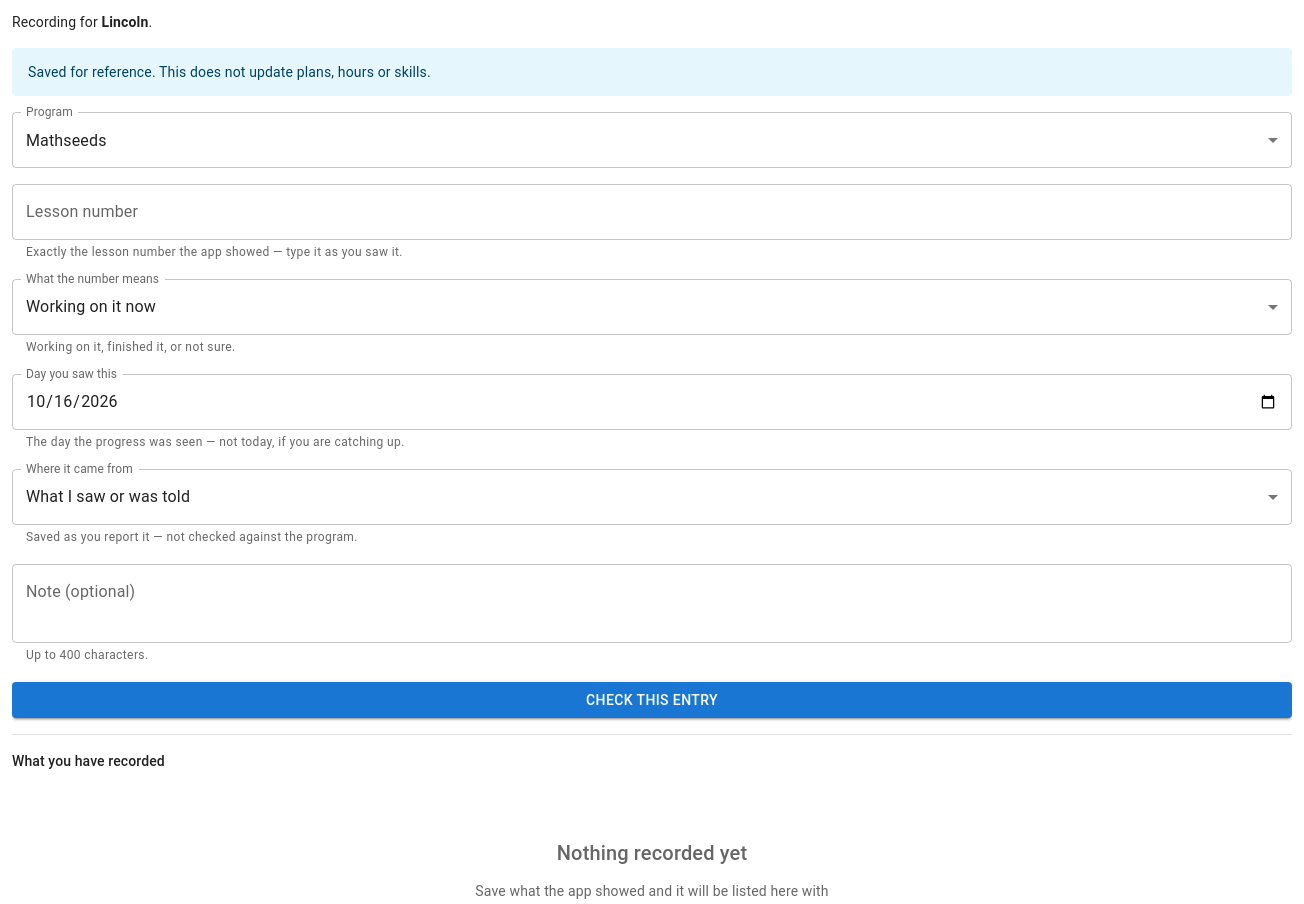
Test case: before anything is written › checking the entry writes nothing and shows what WOULD be saved
Type "42" into the field labelled "Lesson number" at point(652, 212), box [12,184,1292,240]
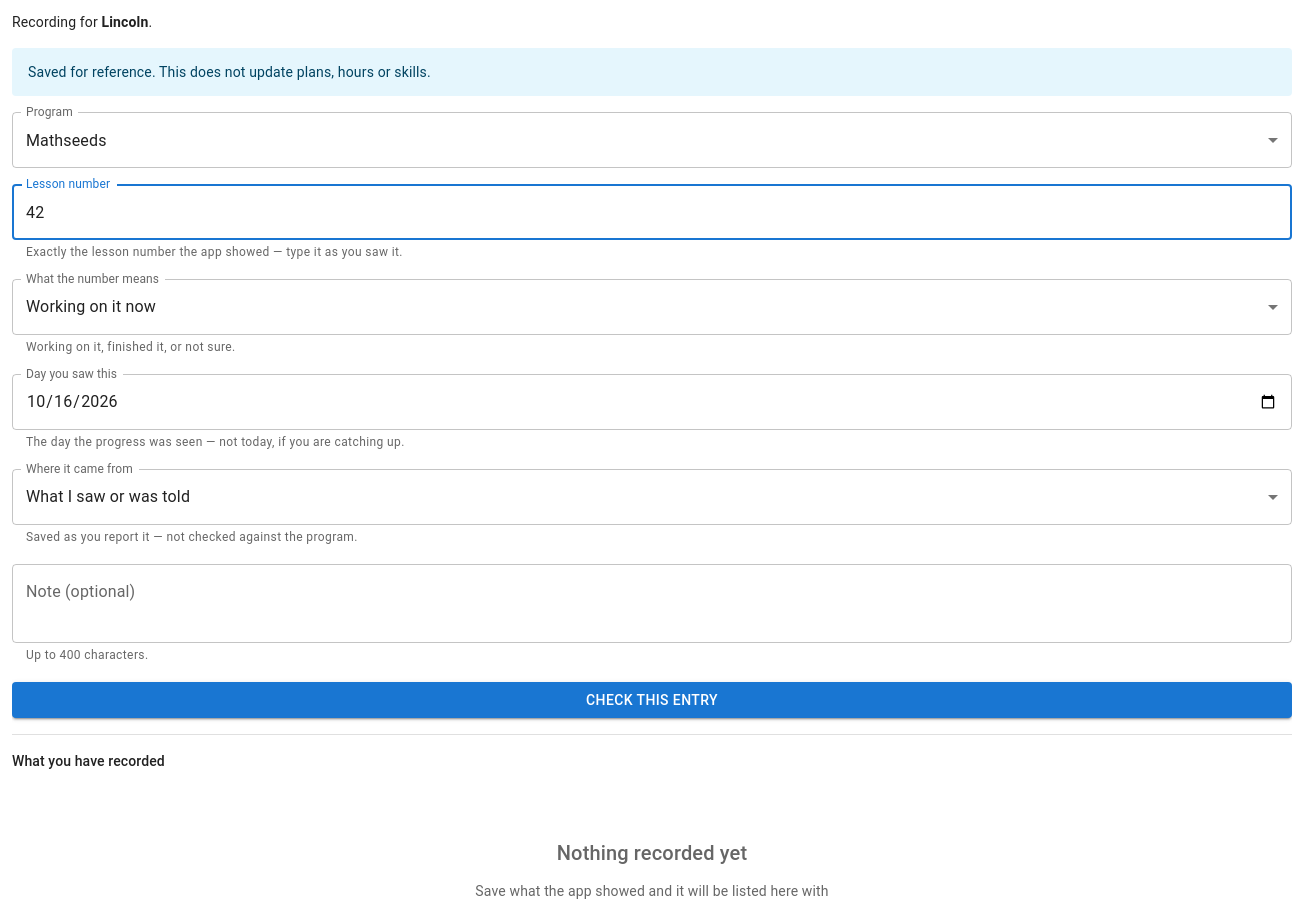
Type "2026-10-12" into the date field labelled "Day you saw this" at point(652, 402), box [12,374,1292,430]
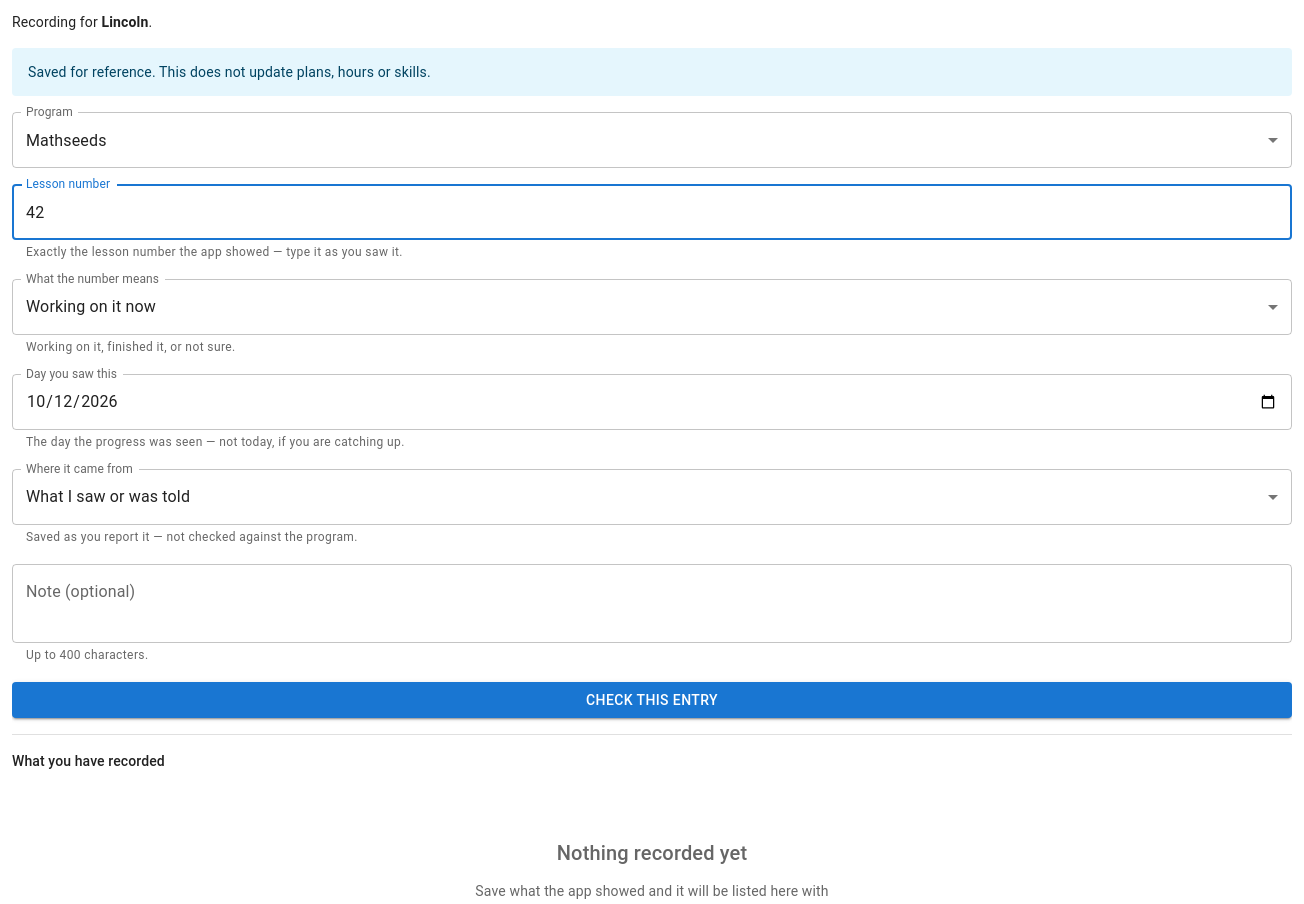
Click the button "Check this entry" at point(652, 700), box [12,682,1292,718]
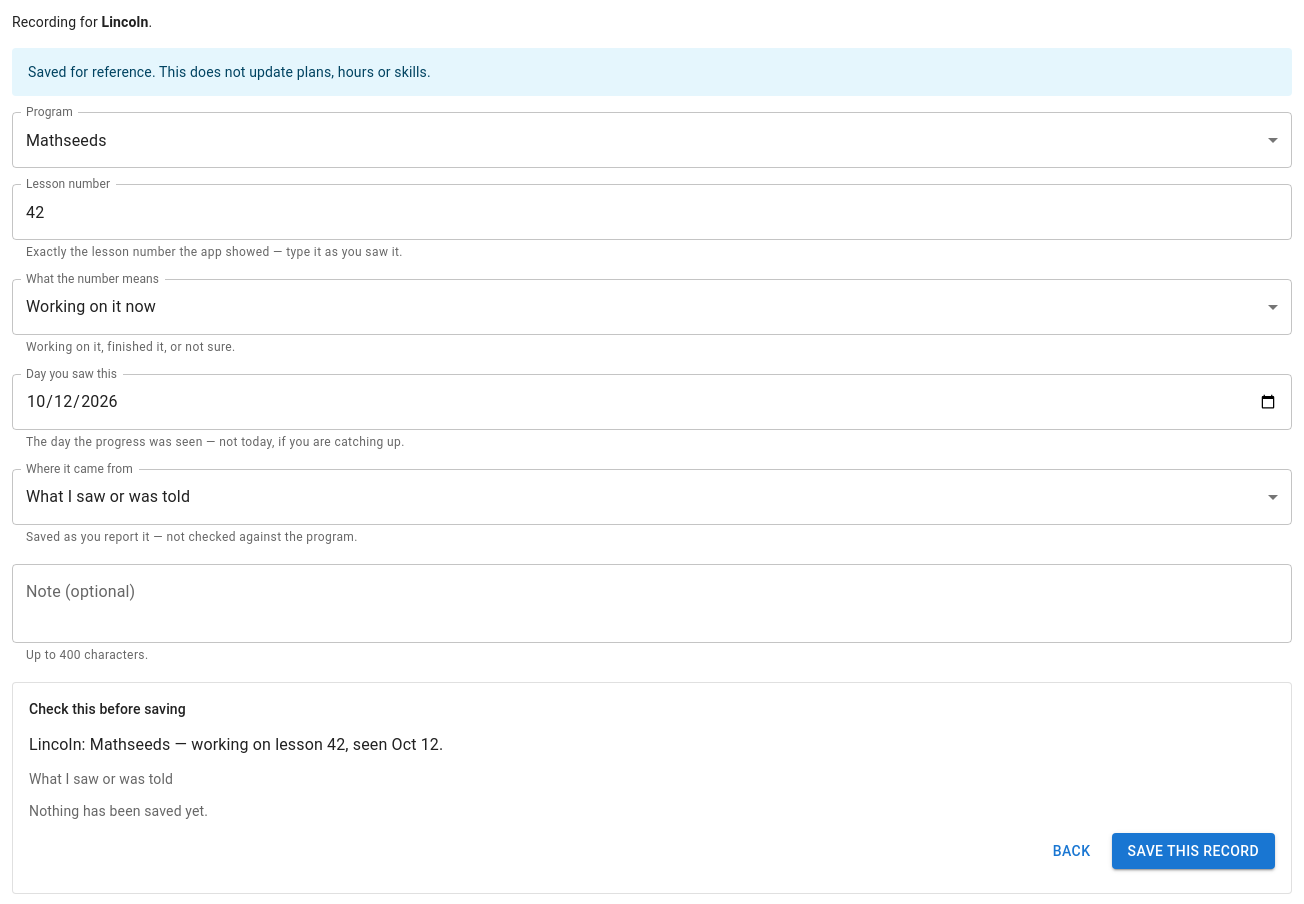
Expected: the text "Lincoln: Mathseeds — working on lesson 42, seen Oct 12." is shown, [29,734,443,754]
Expected: the text "Nothing has been saved yet." is shown, [29,802,208,818]
